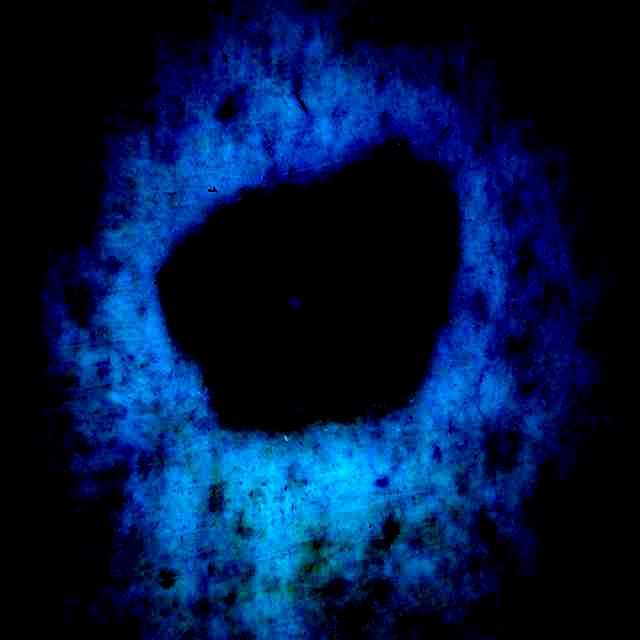BKL: (163, 146, 458, 426)
